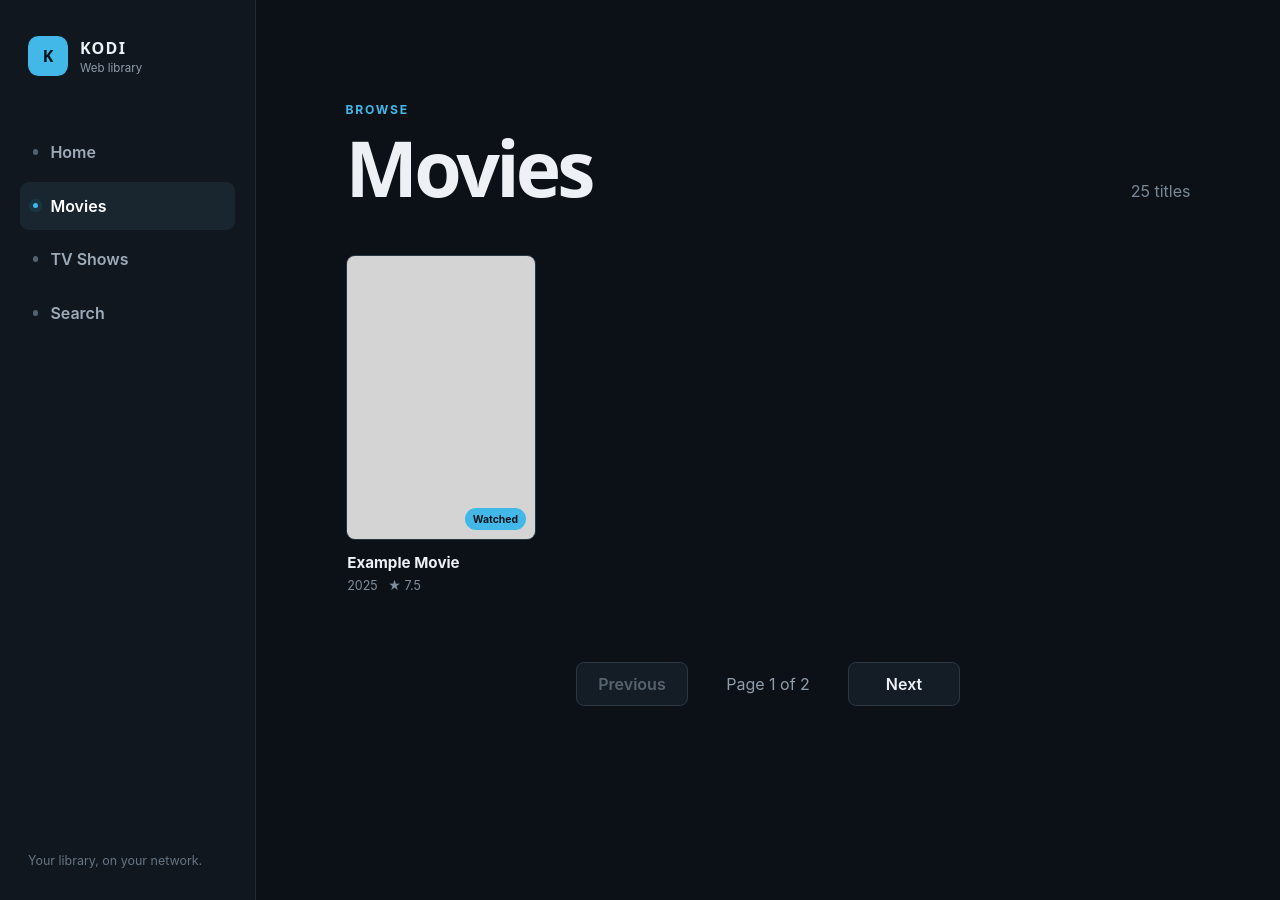
Scenario: movie browse page › stores pagination in the URL and loads the next page
What coordinates should you click on to do the following:
click the button "Next"
I would click on:
 (904, 684)
Its box is [848,662,960,706].
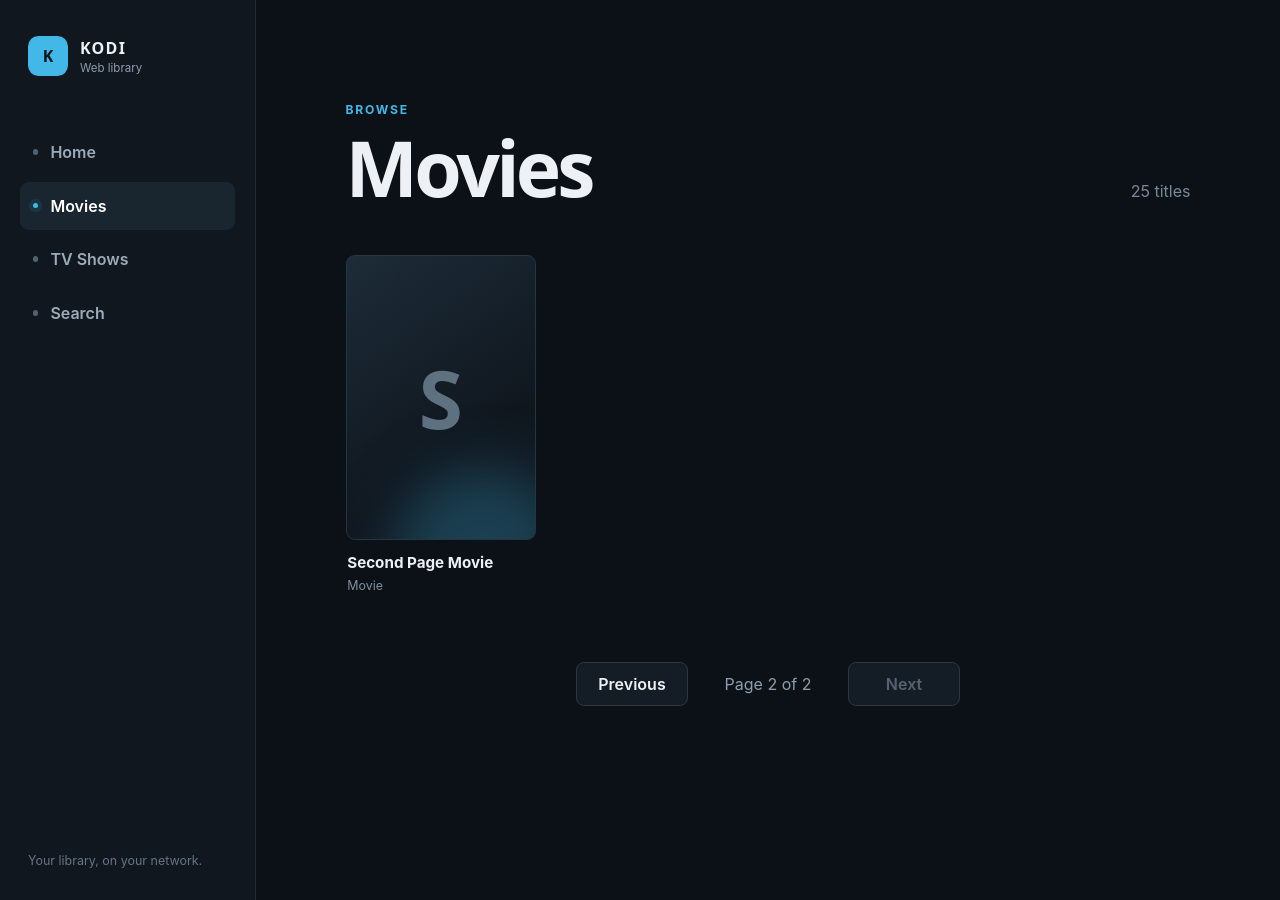
expect the link with aria-label "View Second Page Movie" is shown: met, box [346,255,536,598]
expect the text "Page 2 of 2" is shown: met, box [724,674,811,694]
